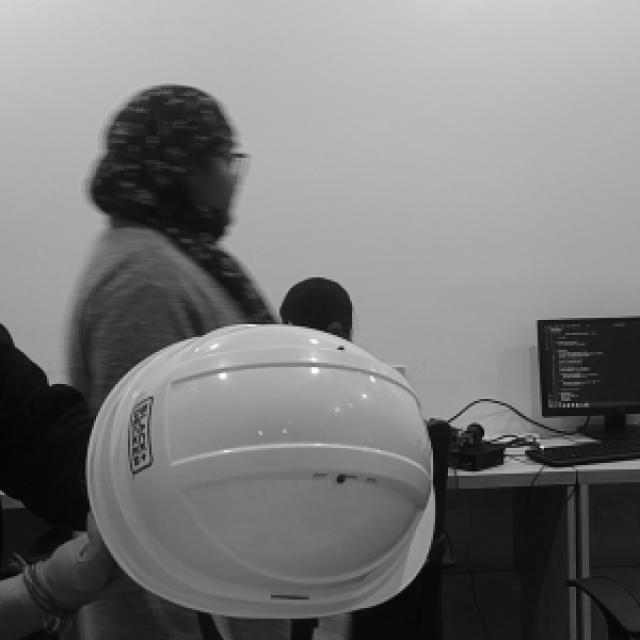safety_helmet: (85, 324, 438, 621)
